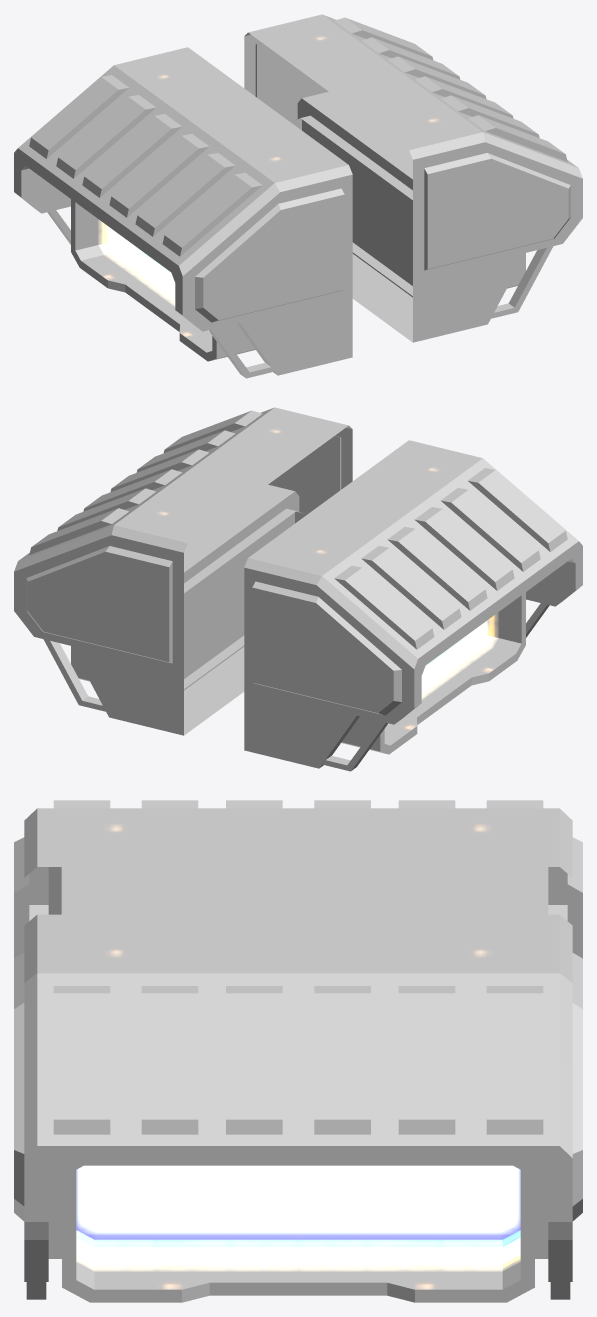
File: USSNFreedomClassDreadnoughtModule2x2.fbx
3 renders of one model, top to bottom at view 1: azimuth 30°, elevation 25°; view 2: azimuth 150°, elevation 25°; view 3: azimuth 270°, elevation 25°, orthographic. The views are drawn at different scales.
Parts seen in each view (by area): view 1: USSNFreedomClassDreadnoughtModule2x2; view 2: USSNFreedomClassDreadnoughtModule2x2; view 3: USSNFreedomClassDreadnoughtModule2x2.
Part boxes in pixels (<box>): USSNFreedomClassDreadnoughtModule2x2: <box>14,14,582,378</box>; USSNFreedomClassDreadnoughtModule2x2: <box>14,407,582,771</box>; USSNFreedomClassDreadnoughtModule2x2: <box>14,800,582,1302</box>.
Size of the model in its own units: 1144 by 518 by 867.
